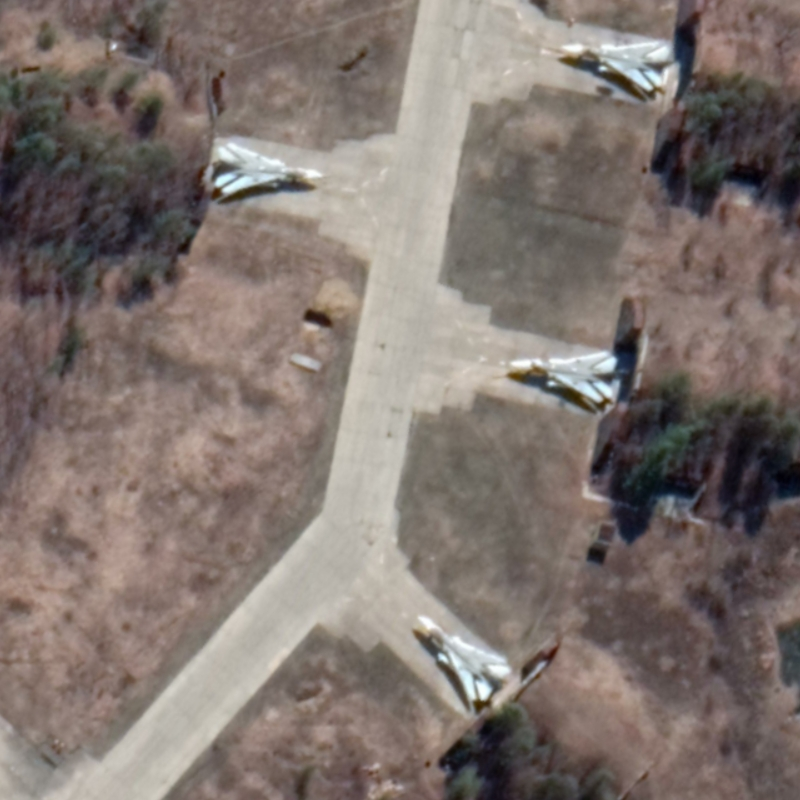A20: (416, 613, 514, 704), (212, 140, 326, 198), (506, 349, 622, 406), (559, 38, 671, 93)
